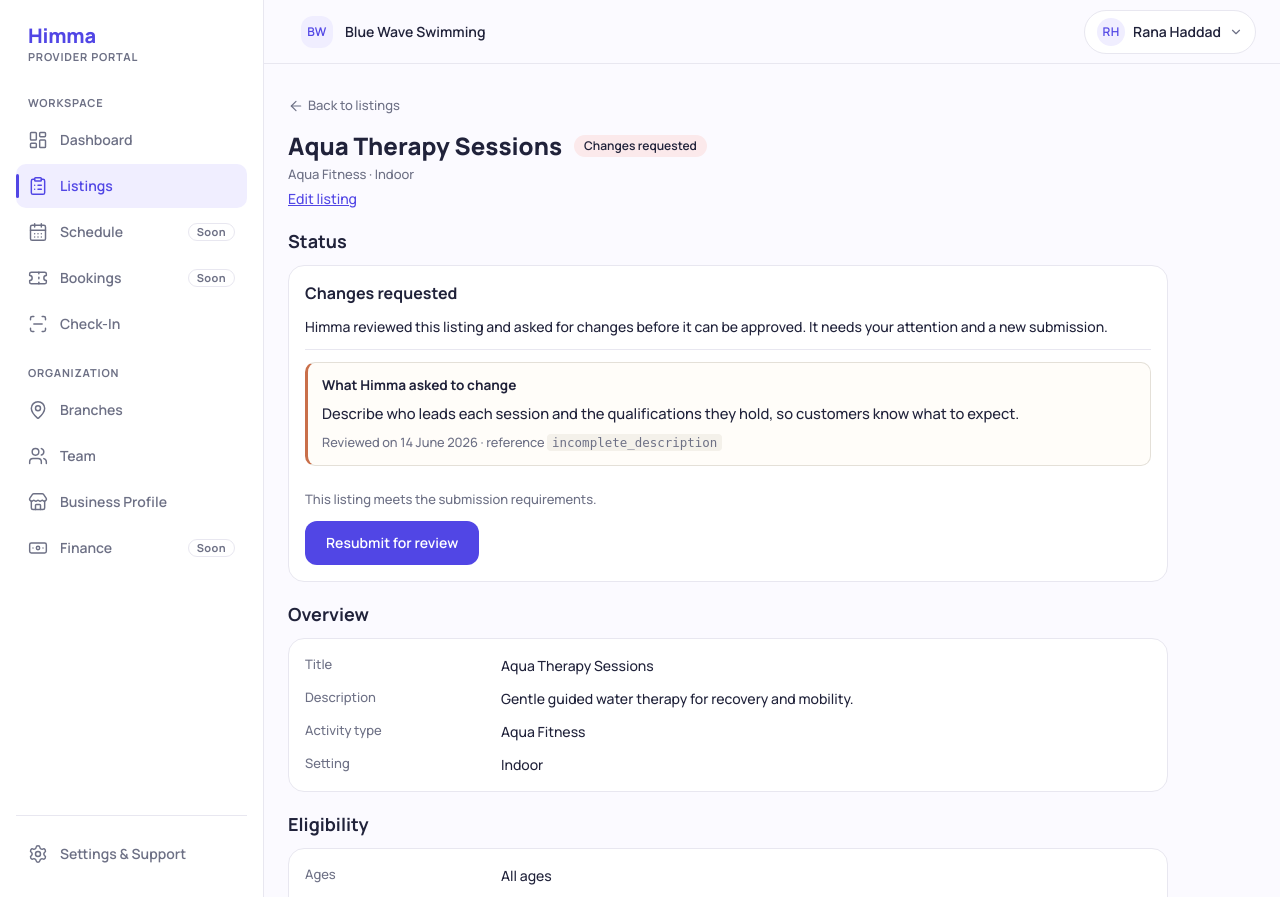
listing lifecycle UX — submit path (W2-9) › changes requested: the REAL provider-safe correction feedback renders (W3-8), and resubmission works through the same action
The image size is (1280, 897).
Expected: the heading "Aqua Therapy Sessions" is shown, [288,130,562,160]
Expected: the 1st text "Changes requested" is shown, [574,134,707,156]
Click the button "Resubmit for review" at (392, 543), box [305,521,479,565]
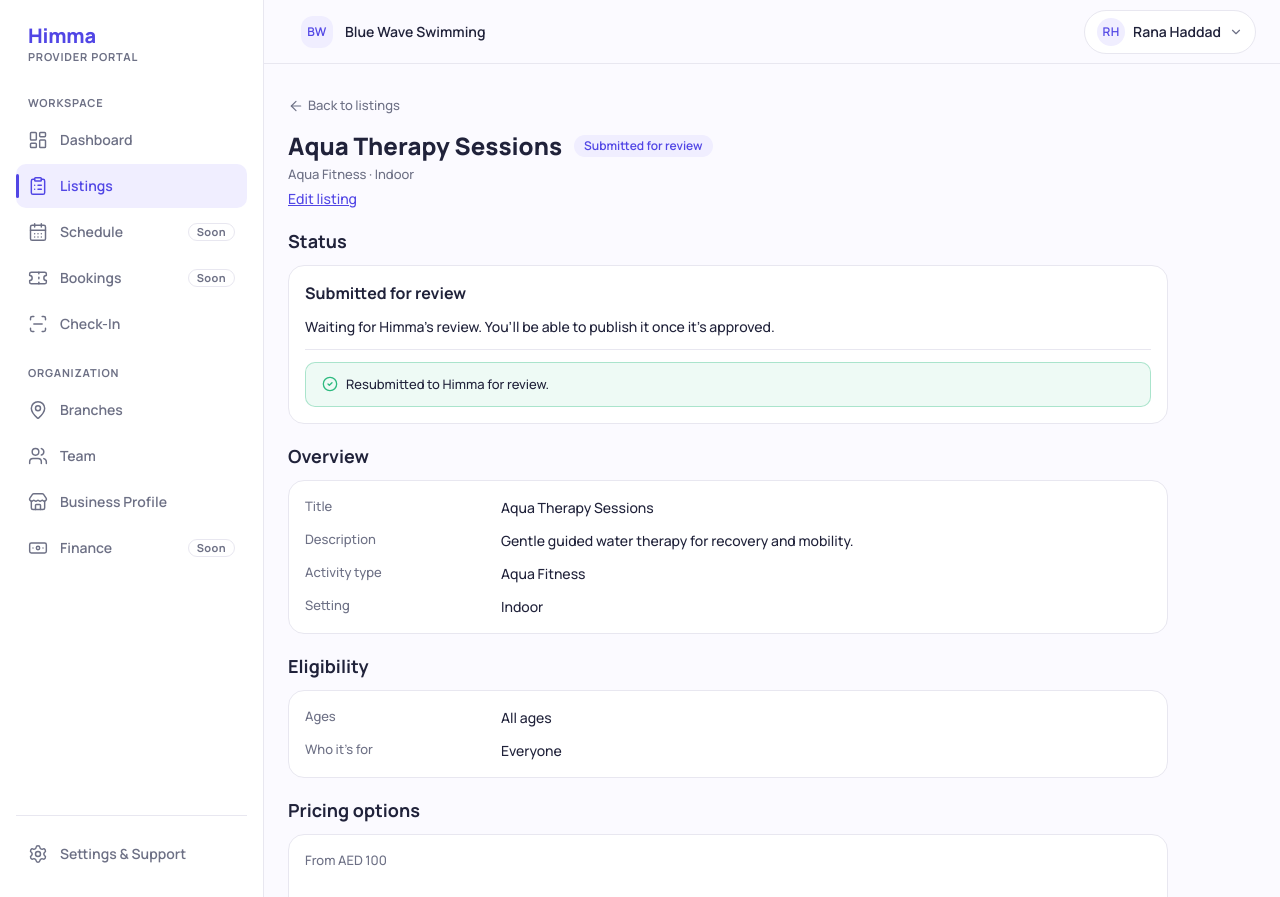
Expected: the text "Resubmitted to Himma for review." is shown, [346,374,549,394]
Expected: the text "What Himma asked to change" is gone
